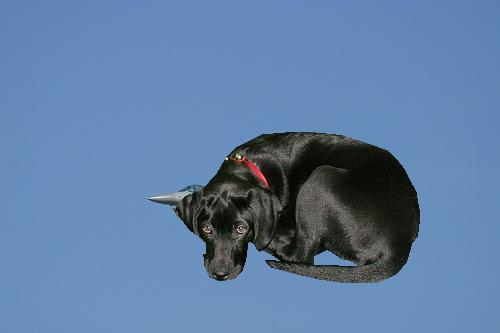tampered: (174, 133, 420, 283)
